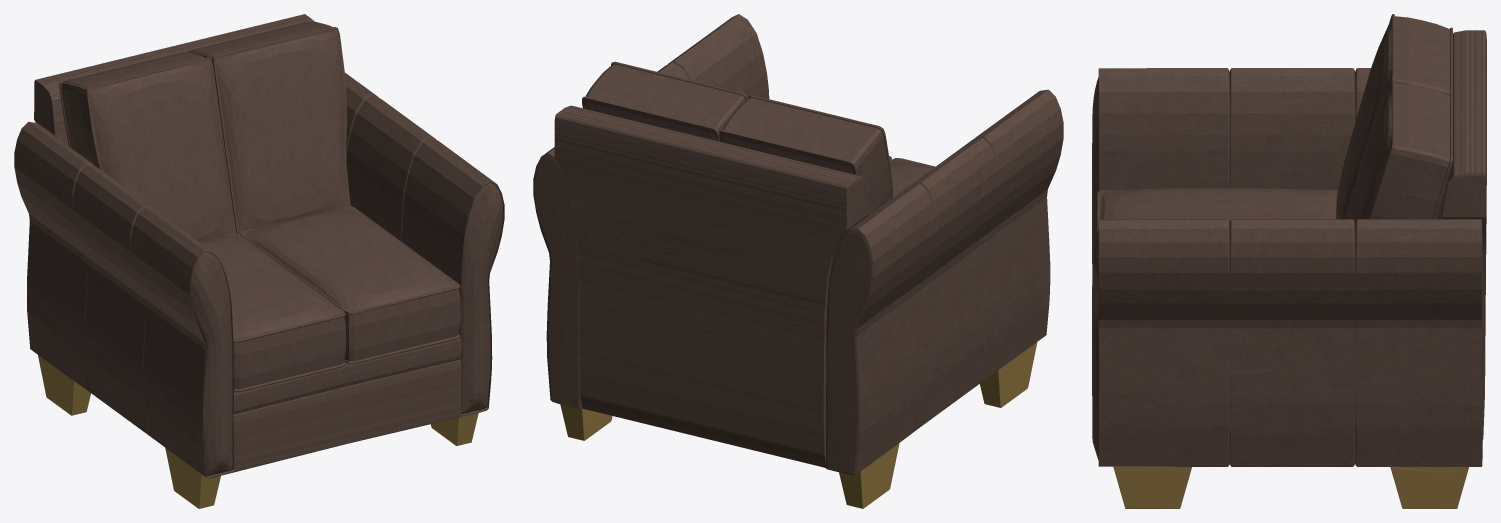
The model's file is sh-bsby-sofa3.glb.
3 renders of one model, left to right at view 1: azimuth 30°, elevation 25°; view 2: azimuth 150°, elevation 25°; view 3: azimuth 270°, elevation 25°, orthographic. The views are drawn at different scales.
Visible parts, largest first — view 1: Cube_Cube.001, Cube.001_Cube.006; view 2: Cube_Cube.001, Cube.001_Cube.006; view 3: Cube_Cube.001, Cube.001_Cube.006.
Part boxes in pixels (x1,y1,x2,y2): Cube_Cube.001: [14, 14, 504, 478]; Cube.001_Cube.006: [38, 355, 478, 508]; Cube_Cube.001: [533, 14, 1063, 475]; Cube.001_Cube.006: [560, 342, 1037, 508]; Cube_Cube.001: [1092, 14, 1486, 466]; Cube.001_Cube.006: [1113, 466, 1468, 508].
Bounding box in the file's own units: 1 × 0.9999 × 1.
2 materials, 1 textured.
